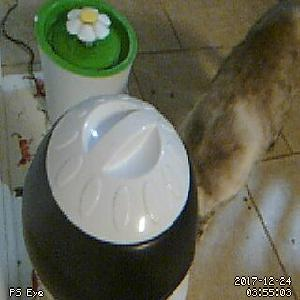cat: (174, 1, 300, 247)
fountain: (33, 1, 139, 77)
